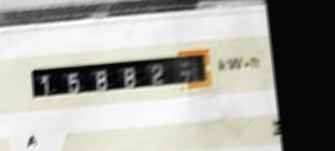1: (36, 73, 53, 96)
2: (147, 62, 165, 88)
5: (64, 70, 81, 96)
7: (177, 66, 191, 85)
8: (120, 65, 137, 91), (92, 69, 108, 93)
screen: (20, 40, 222, 117)
